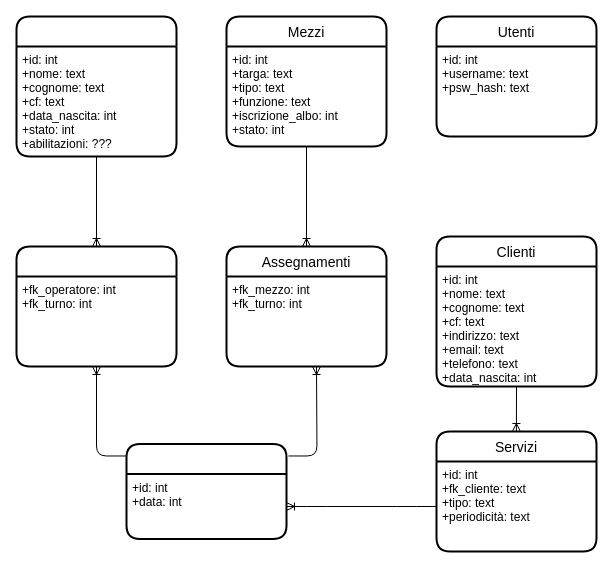
Some shapes in this 613 by 568 pixel diagram are drawn without their labels. Here are the shapes that lost their labels. From the top down, the box of each, then its label:
(15, 15, 177, 157): Operatori
(15, 245, 177, 367): Impieghi
(125, 442, 287, 540): Turni
